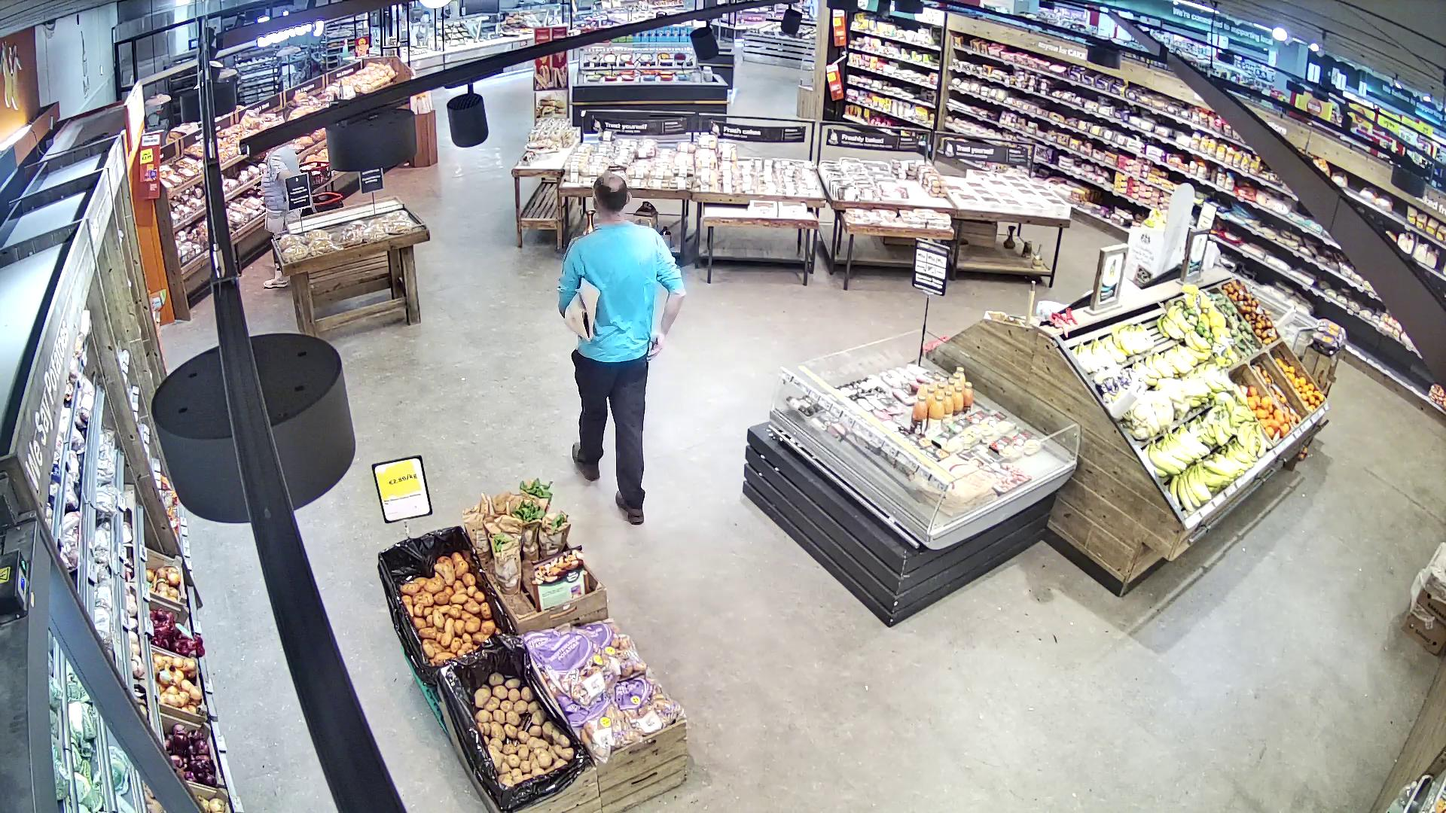empty-shopping-bags: (563, 279, 603, 342)
person: (557, 172, 687, 526)
person-with-empty-shopping-bag-s-: (557, 171, 688, 524)
